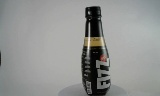appyfizz: (74, 5, 104, 95)
